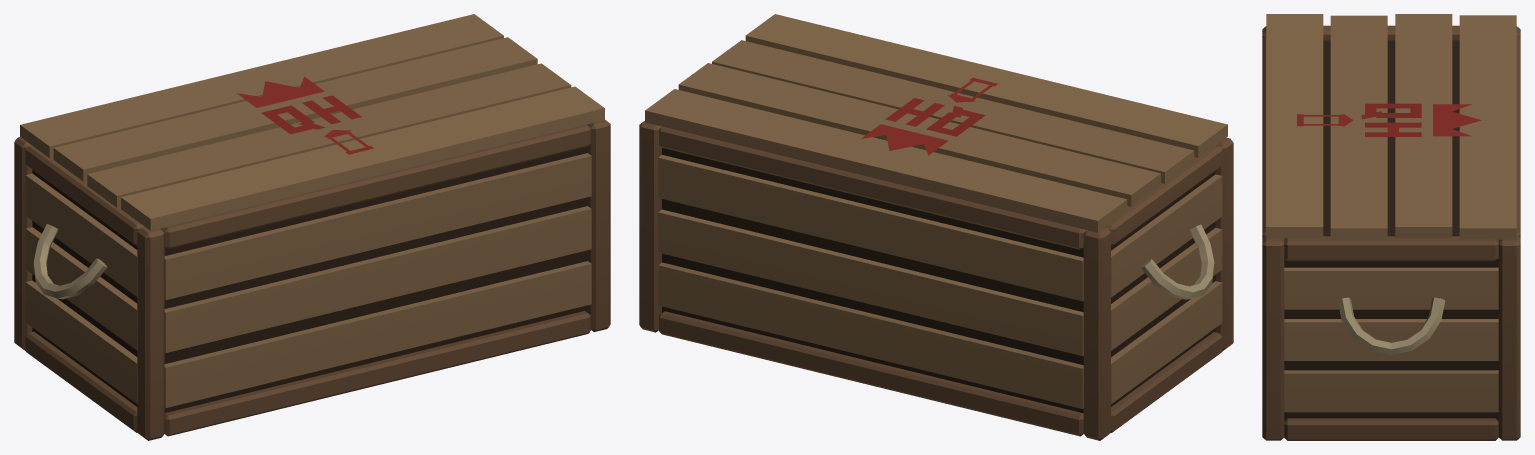
File: crate.glb
3 views of the same model, side by side, from view 1: azimuth 30°, elevation 25°; view 2: azimuth 150°, elevation 25°; view 3: azimuth 270°, elevation 25° (orthographic). The views are drawn at different scales.
Visible parts, largest first — view 1: isl_crate; view 2: isl_crate; view 3: isl_crate.
Part boxes in pixels (left/top/right/bottom): isl_crate: left=14, top=14, right=610, bottom=440; isl_crate: left=639, top=14, right=1233, bottom=440; isl_crate: left=1262, top=14, right=1520, bottom=440.
Bounding box in the file's own units: 0.9485 × 0.373 × 0.41.
